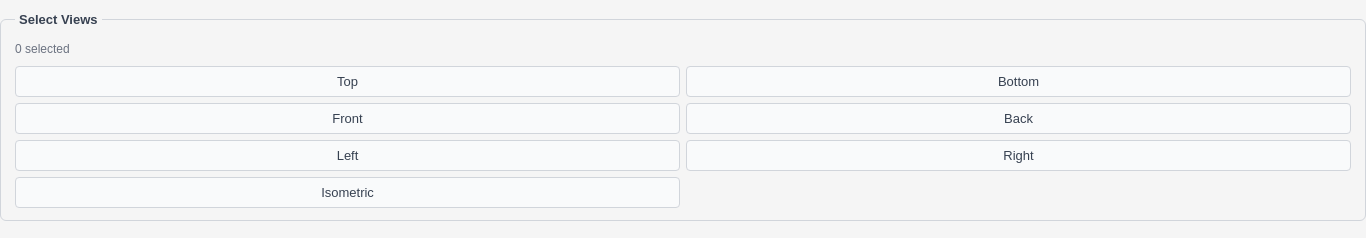
Test: ViewSelector › decrements the count badge when a view is deactivated
Click the checkbox labelled "Top".
click(348, 82)  # box [15,66,680,97]
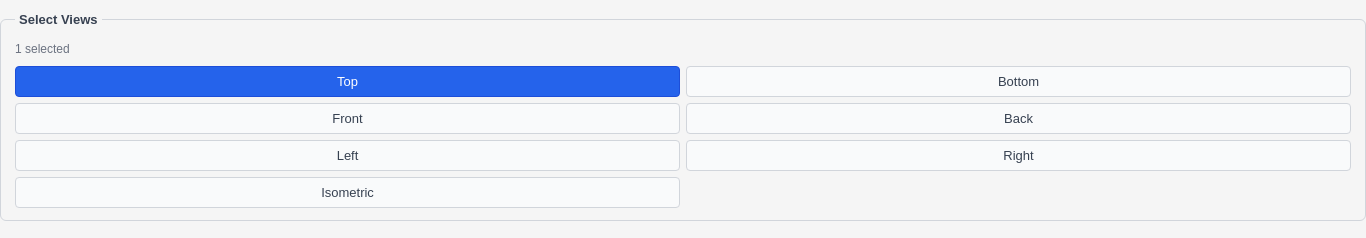
Click the checkbox labelled "Left".
click(348, 156)  # box [15,140,680,171]
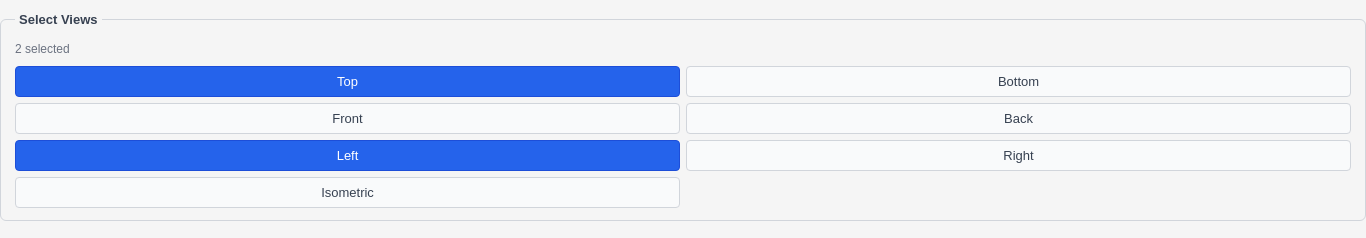
Check: the text "2 selected" is shown, box [15,42,70,56]
Click the checkbox labelled "Top".
click(348, 82)  # box [15,66,680,97]
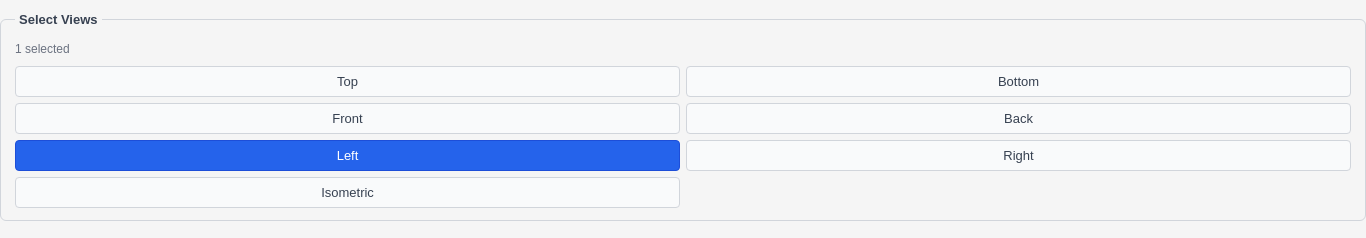
Check: the text "1 selected" is shown, box [15,42,70,56]
